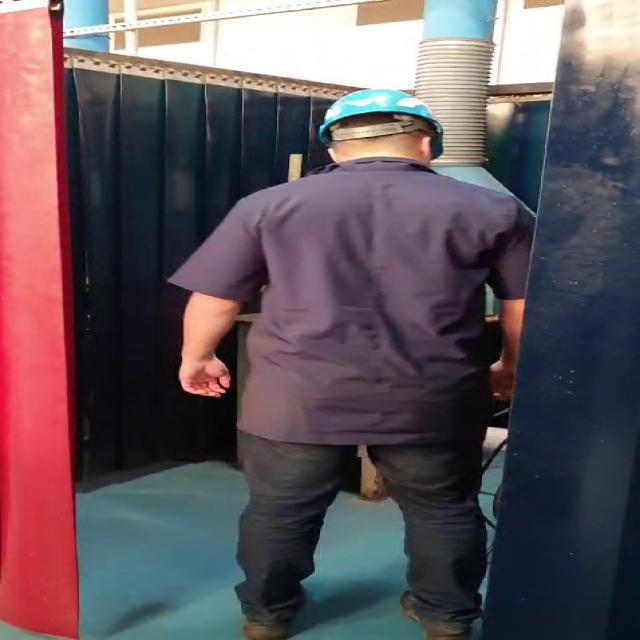sem_oculos: (410, 132, 447, 165)
